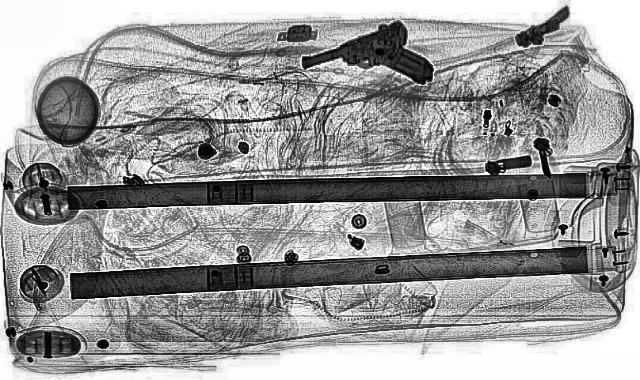Gun: (284, 19, 452, 107)
